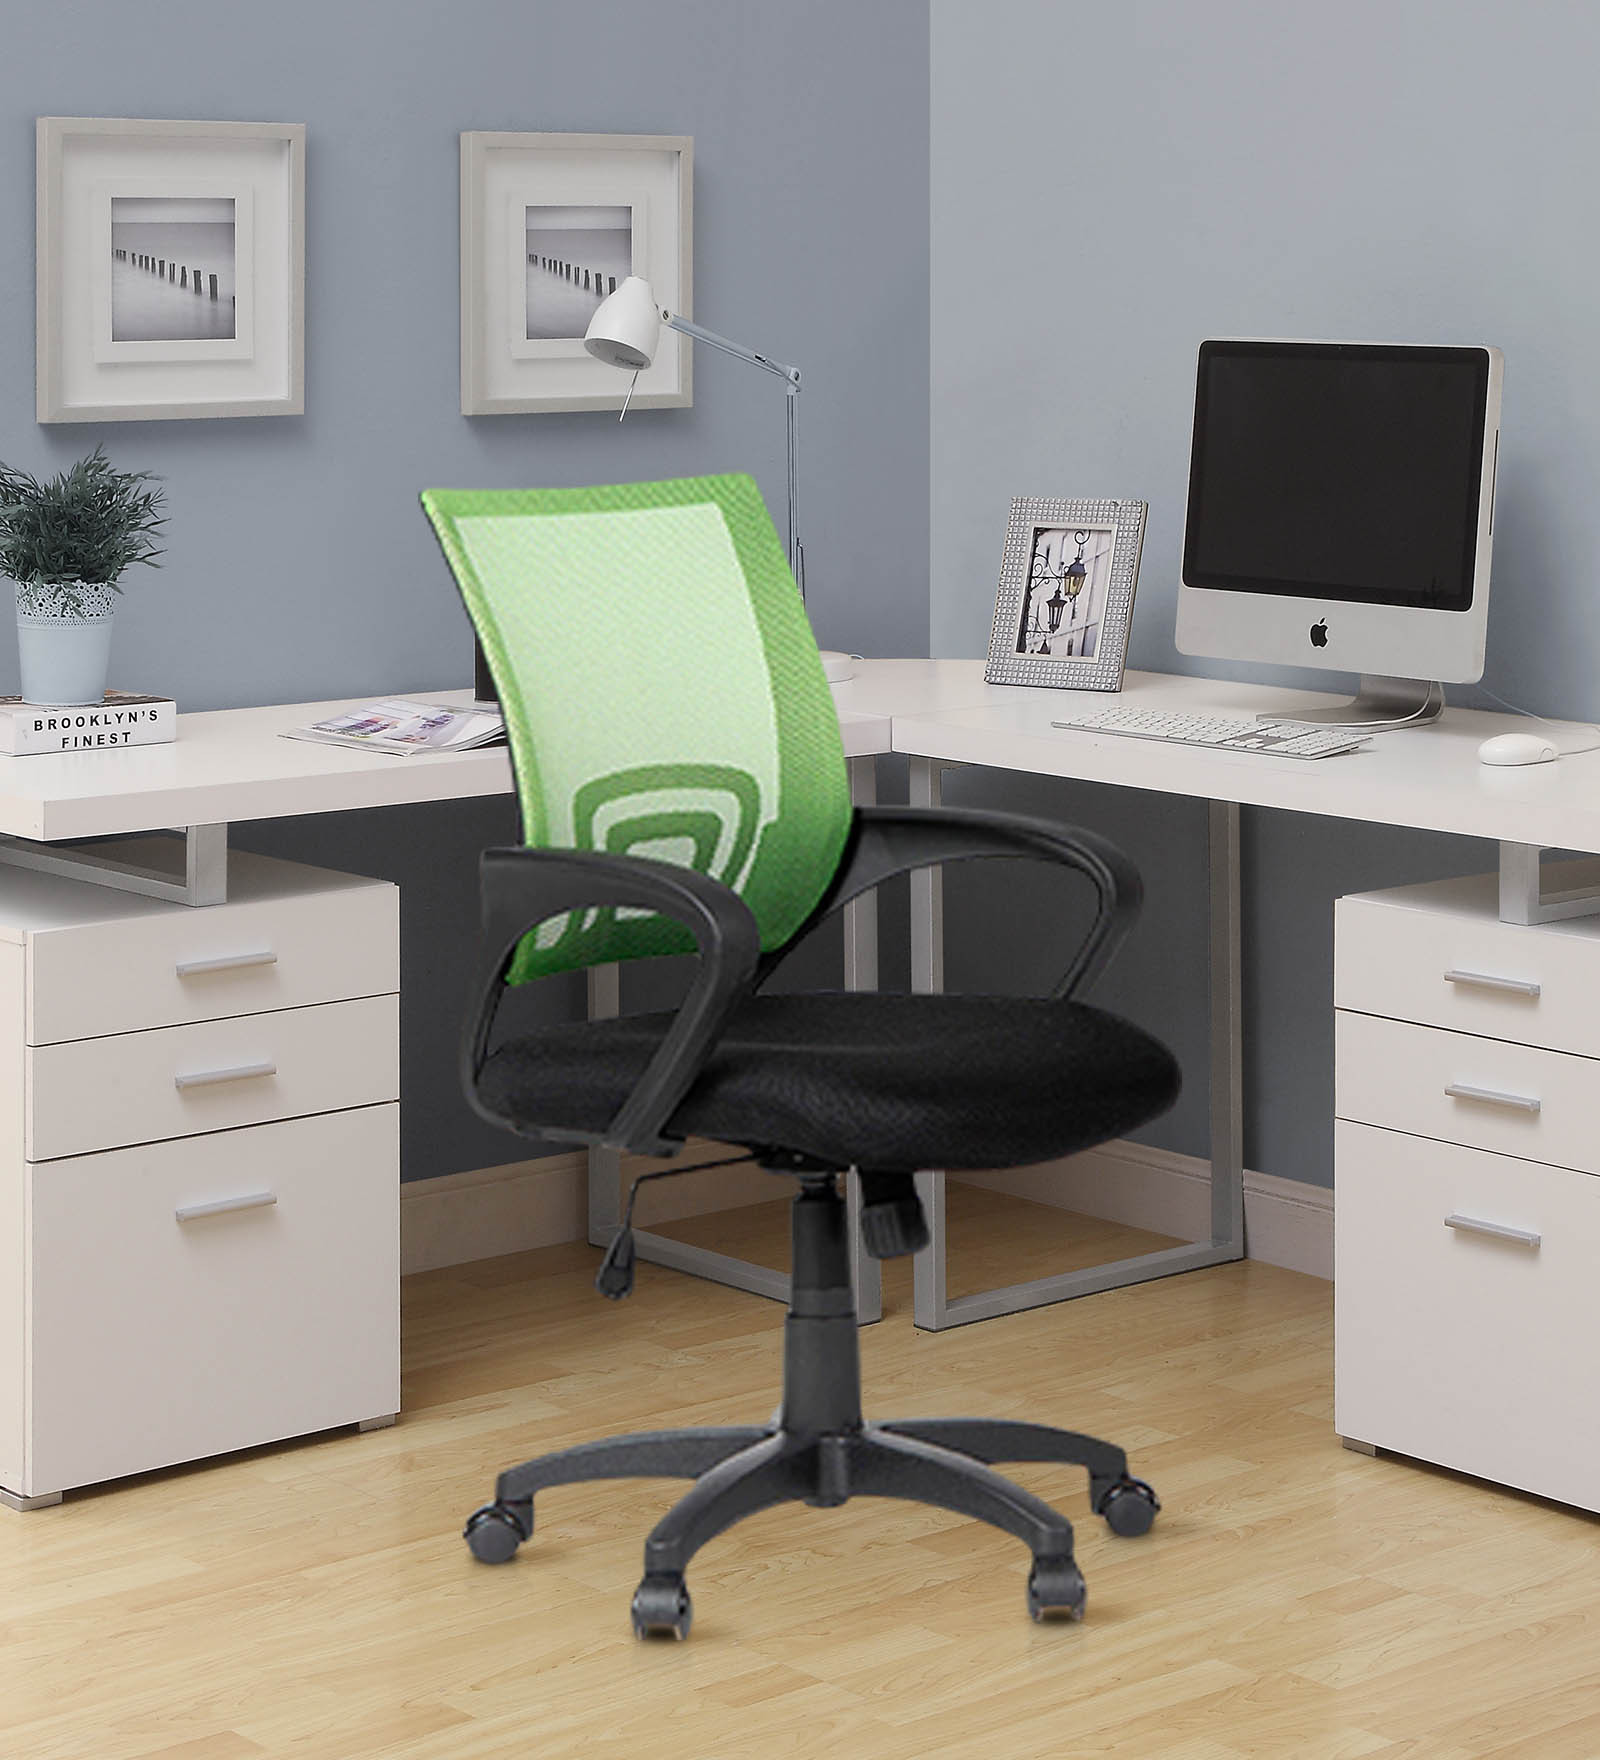Regus Low Back Mesh Chair in Green Colour by Hometown: (349, 405, 1225, 1688)
